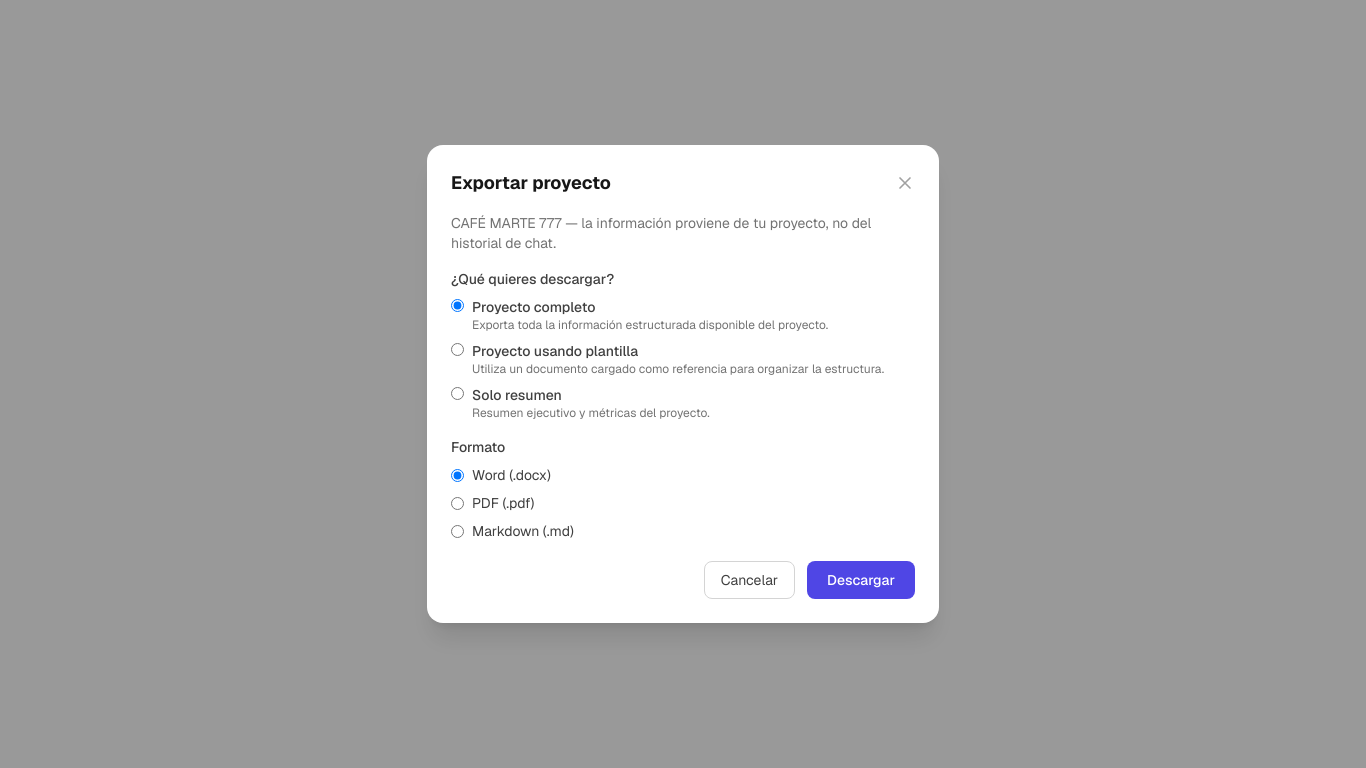
ExportProjectModal › descarga PDF en modo resumen con template
Click the radio button labelled "Proyecto usando plantilla": point(458, 350) [451,343,464,356]
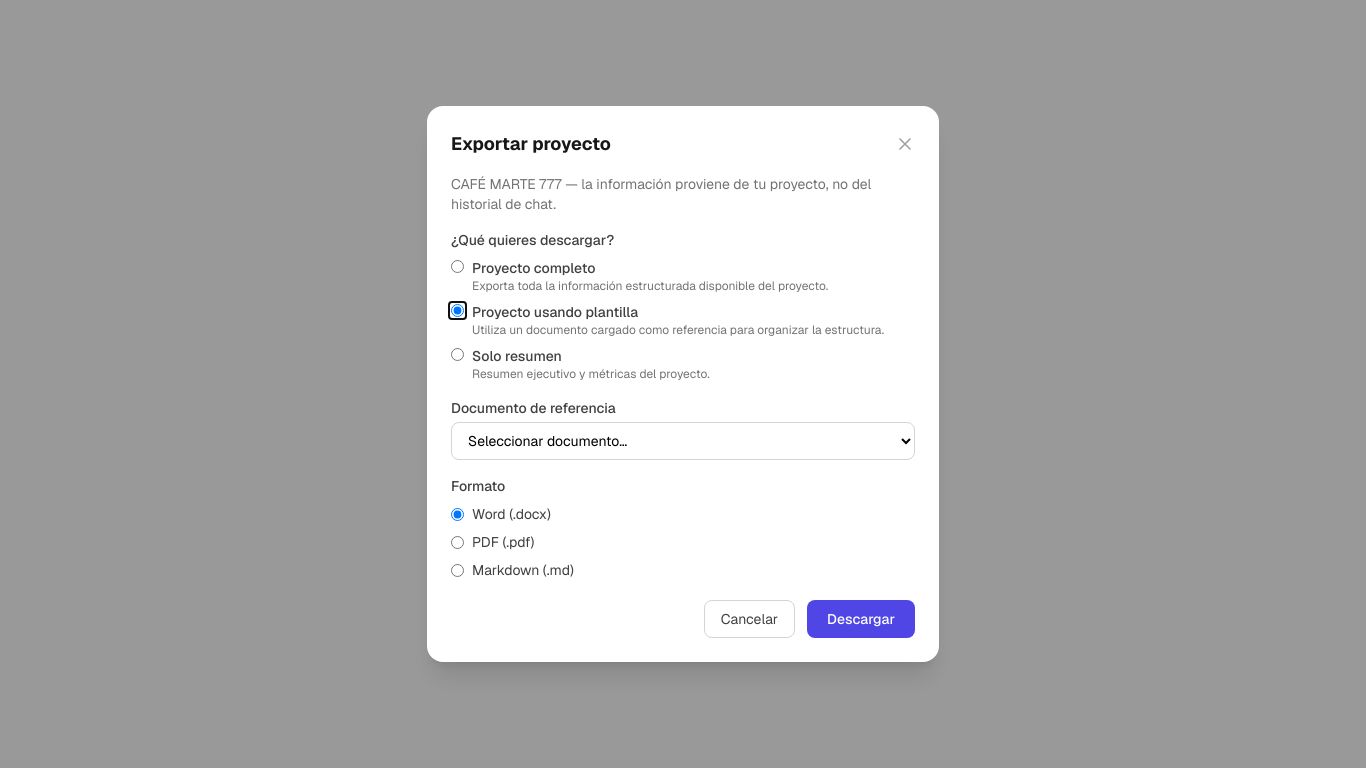
Select "📄 Plantilla SENA.docx" in the dropdown labelled "Documento de referencia": point(683, 441) [451,422,915,460]
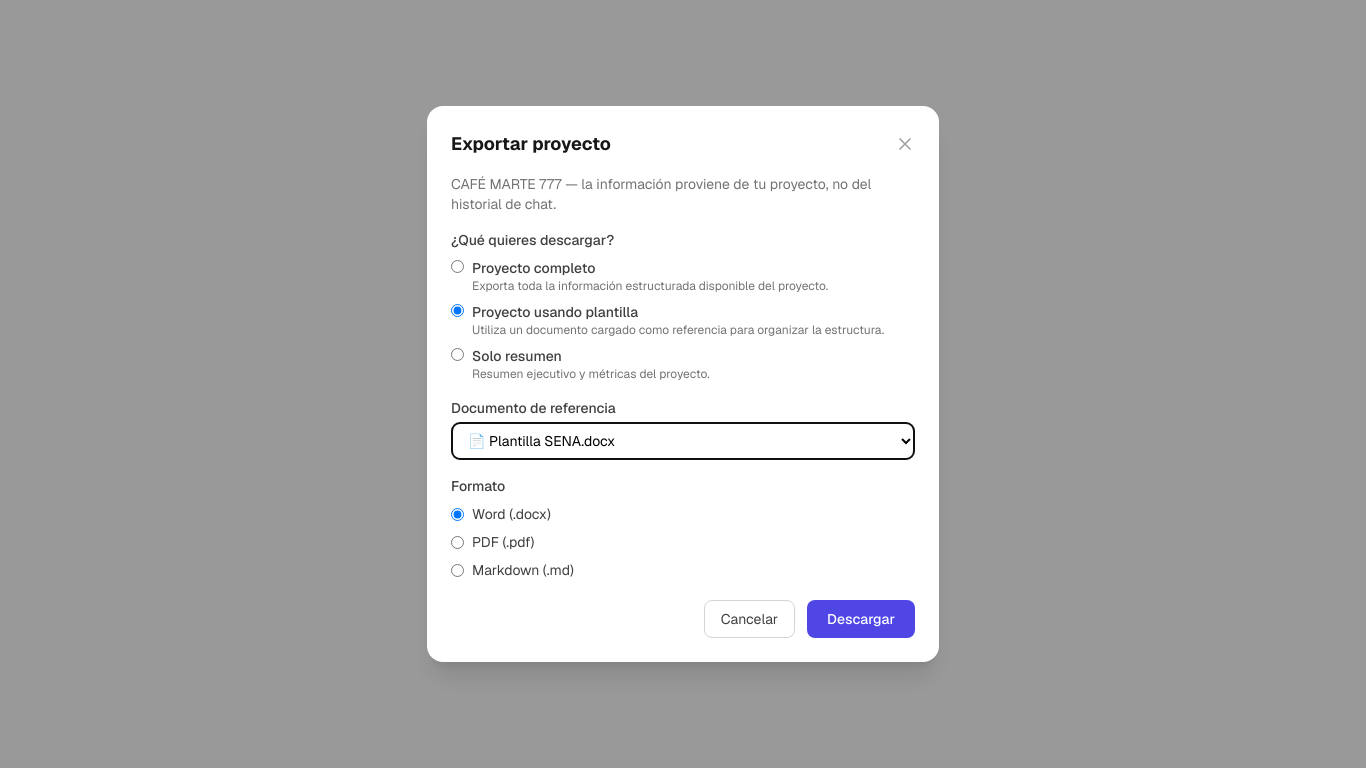
Click the radio button labelled "PDF (.pdf)": point(458, 542) [451,536,464,548]
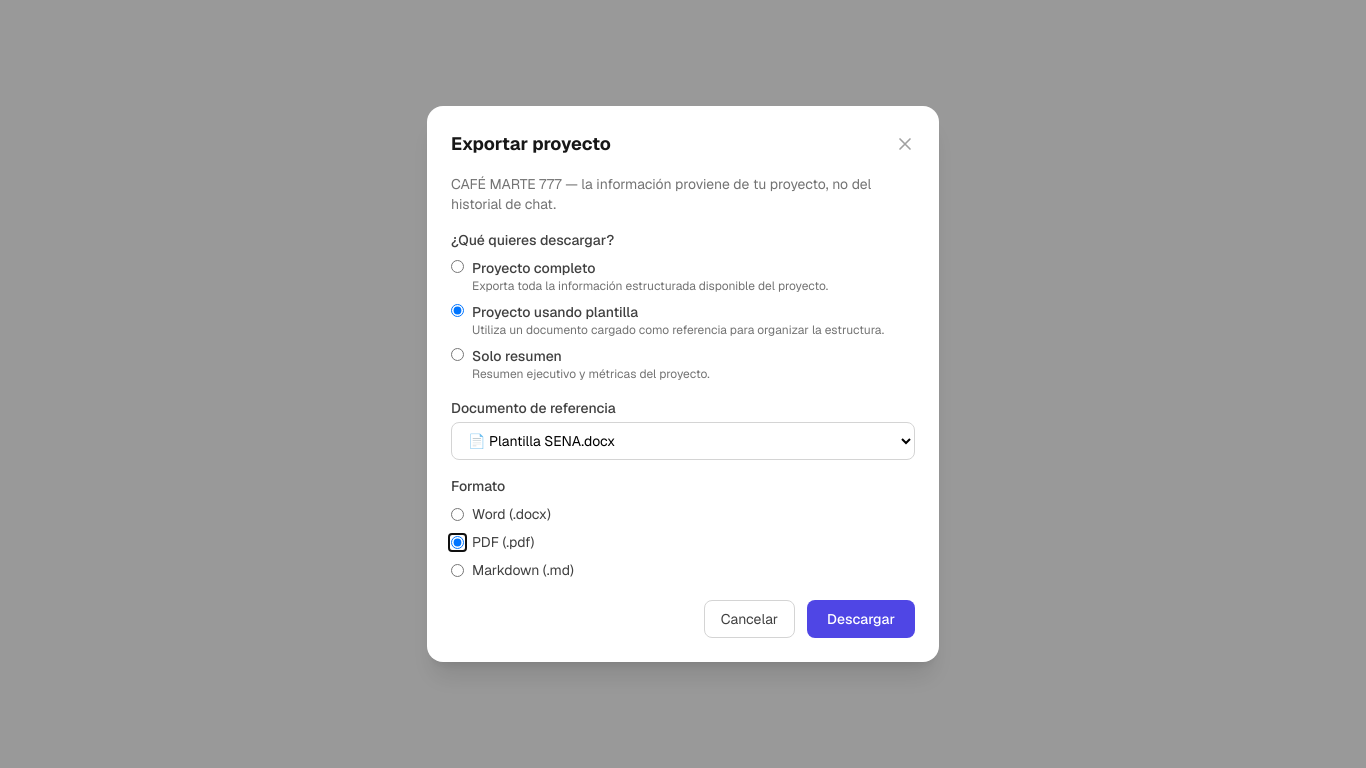
Click the button "Descargar": point(861, 619) [807,600,915,638]
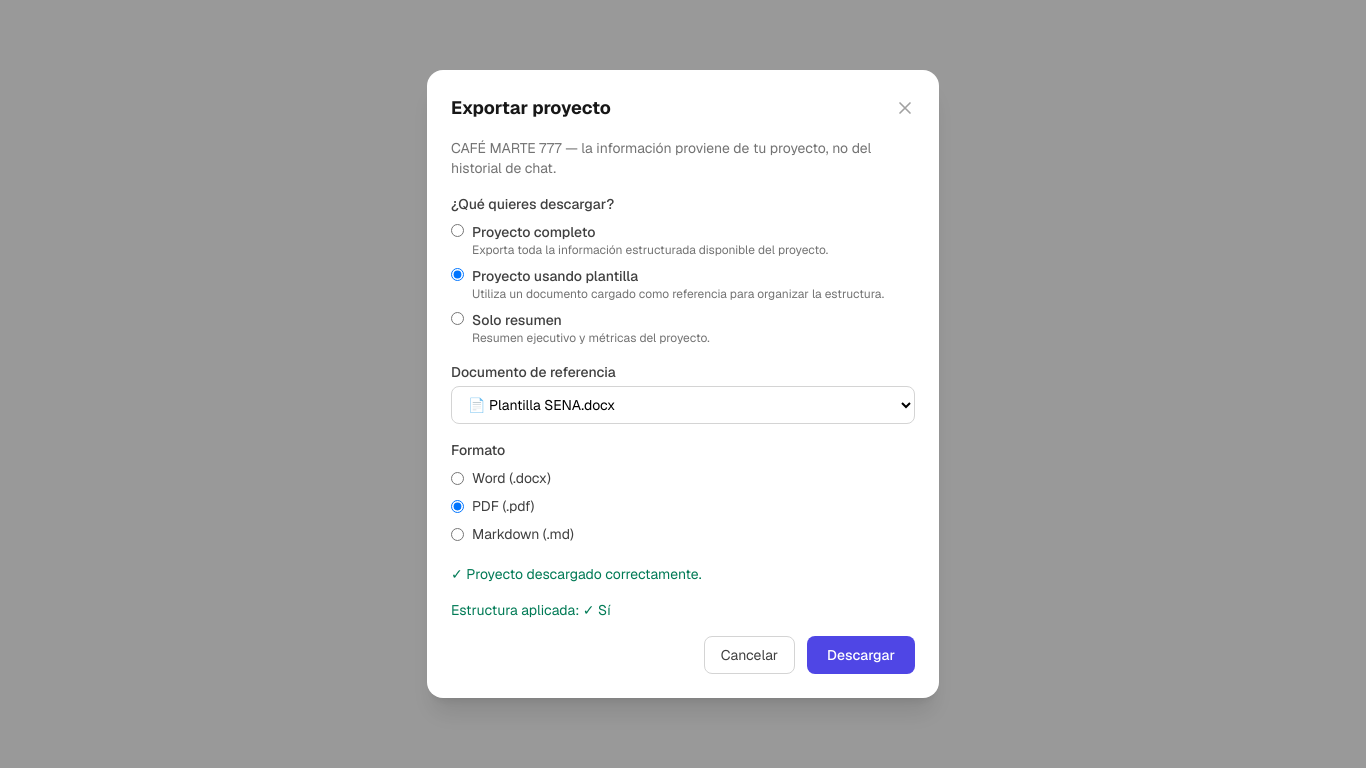
Now the text "Estructura aplicada: ✓ Sí" is shown, box [451,601,611,619]
